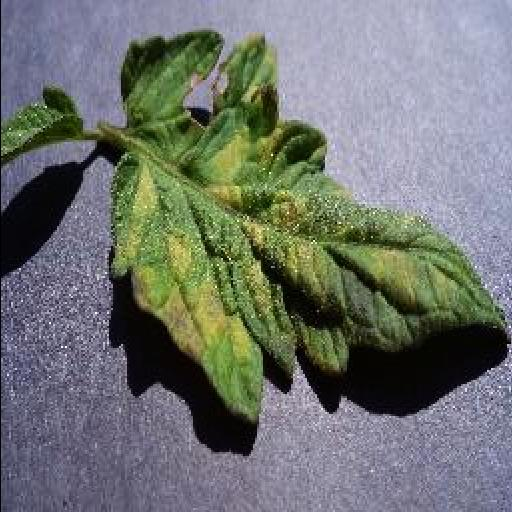disease_tomato: (110, 27, 512, 424)
